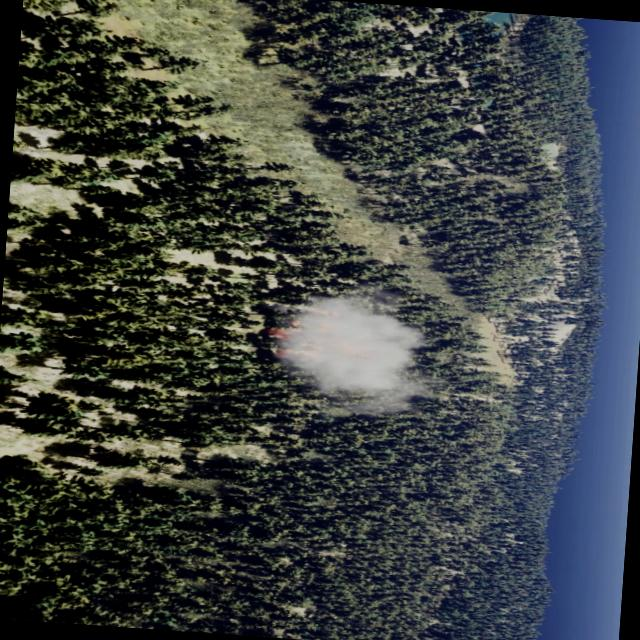smoke: (254, 296, 429, 414)
